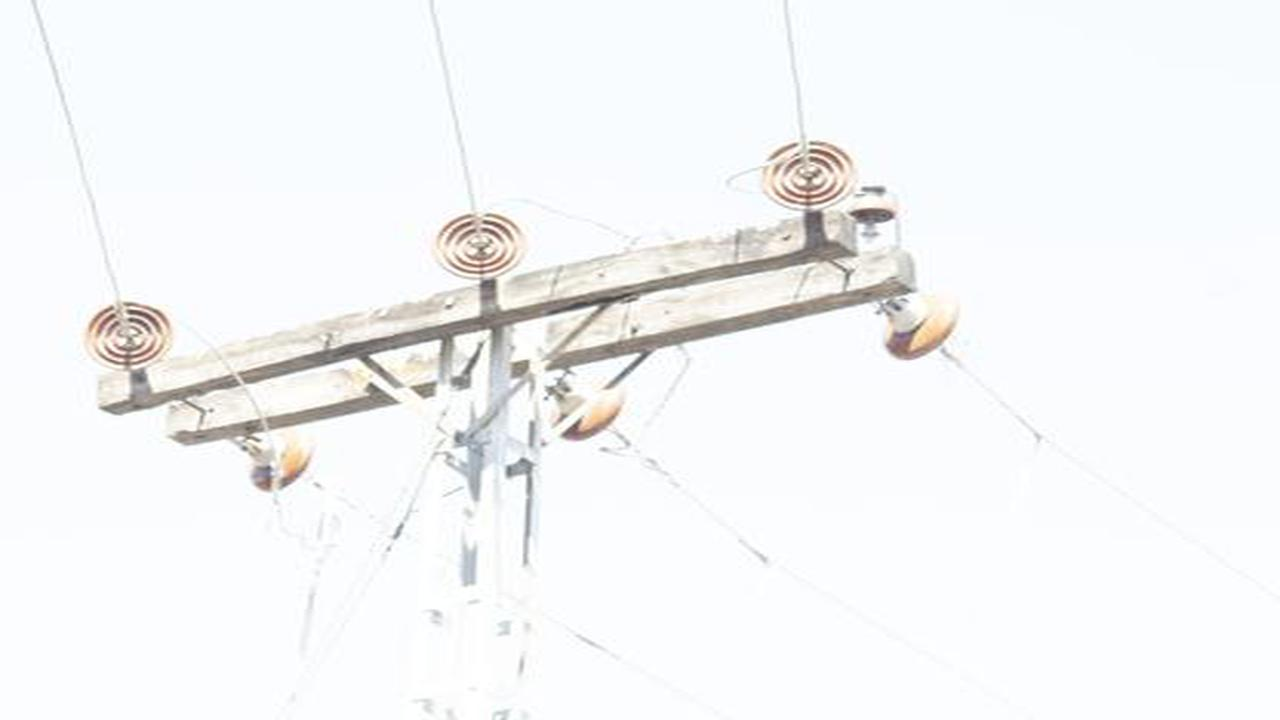insulator_disc: (430, 210, 531, 284), (758, 138, 861, 208), (82, 297, 177, 371), (875, 295, 965, 364), (544, 371, 627, 441), (242, 433, 320, 493)
insulator_pin: (852, 184, 902, 223)
